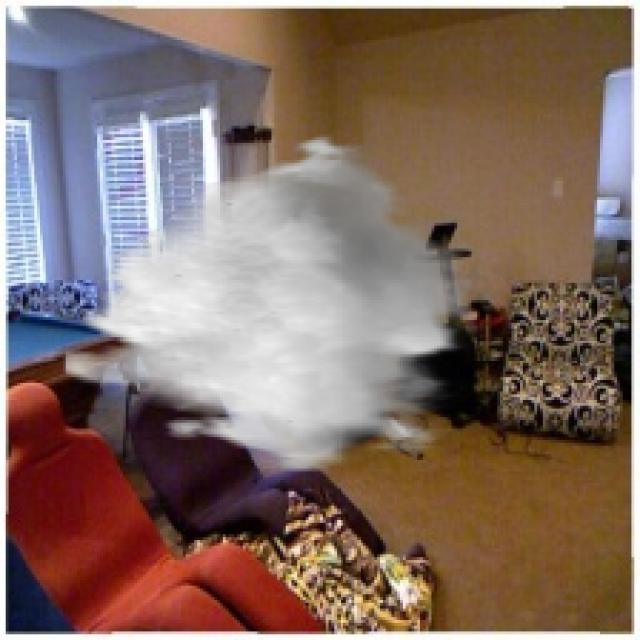Smoke: (62, 128, 474, 472)
